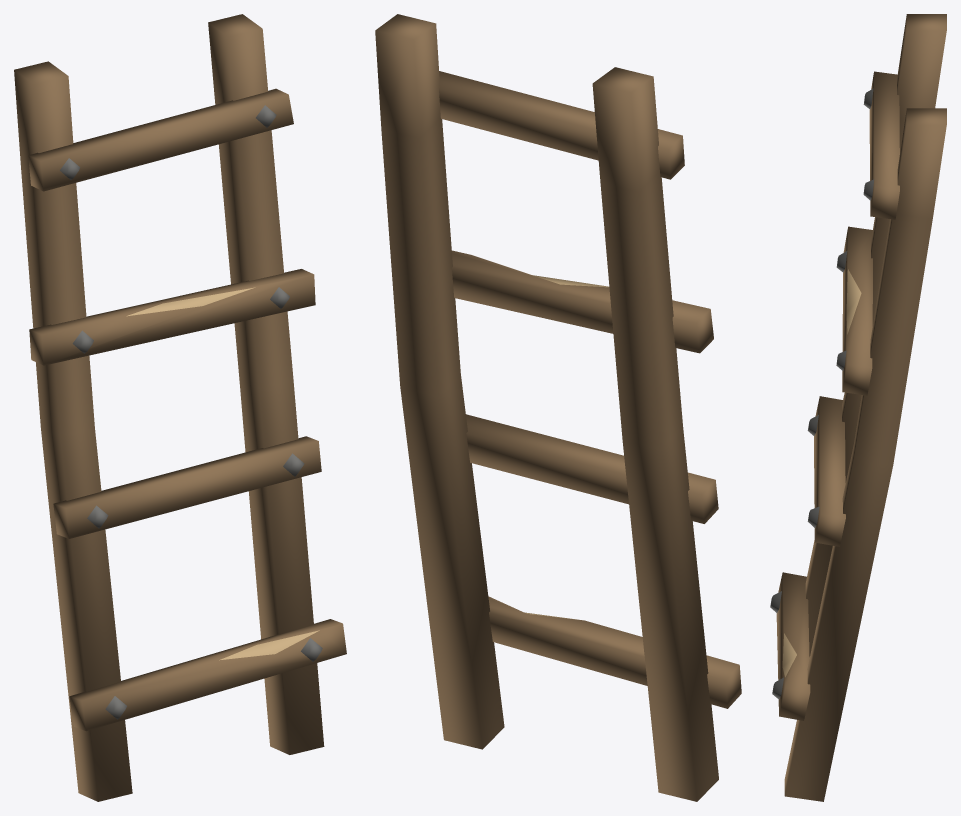
Rendered from rpgpp_ag_ladder_01b.fbx.
The picture shows the model from 3 angles, left to right: view 1: azimuth 30°, elevation 25°; view 2: azimuth 150°, elevation 25°; view 3: azimuth 270°, elevation 25°; orthographic projection. The views are drawn at different scales.
Parts seen in each view (by area): view 1: rpgpp_ag_ladder_01b; view 2: rpgpp_ag_ladder_01b; view 3: rpgpp_ag_ladder_01b.
Boxes of the visible parts, bbox=[...] form: rpgpp_ag_ladder_01b: bbox=[14, 14, 346, 801]; rpgpp_ag_ladder_01b: bbox=[375, 14, 741, 801]; rpgpp_ag_ladder_01b: bbox=[770, 14, 946, 801].
Bounding box in the file's own units: 0.7109 × 1.69 × 0.4007.
